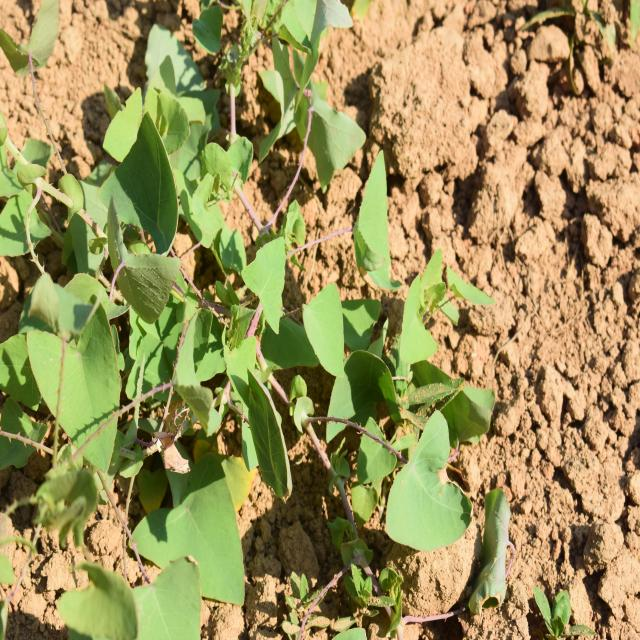Asiatic_Smartweed: (224, 148, 424, 376), (58, 442, 250, 640), (85, 72, 216, 329), (382, 421, 498, 566)
